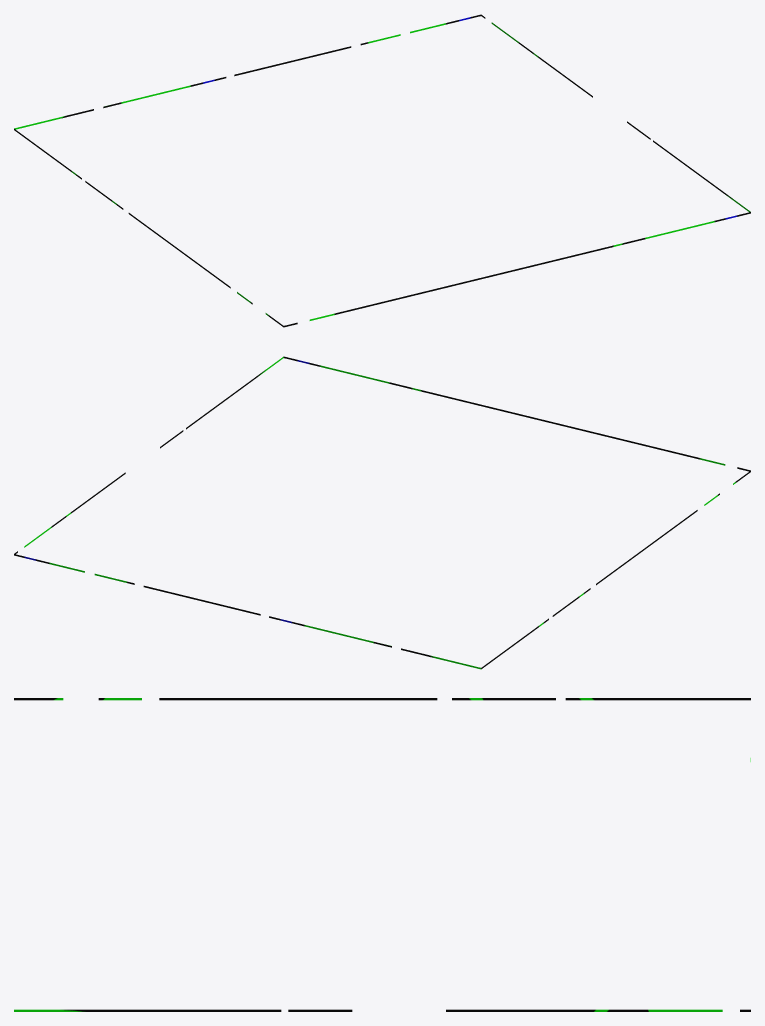
The model's file is SM_Landscape_colditz_side.fbx.
The picture shows the model from 3 angles, top to bottom: view 1: azimuth 30°, elevation 25°; view 2: azimuth 150°, elevation 25°; view 3: azimuth 270°, elevation 25°; orthographic projection. The views are drawn at different scales.
Visible parts, largest first — view 1: SM_Landscape_colditz_side; view 2: SM_Landscape_colditz_side; view 3: SM_Landscape_colditz_side.
Boxes of the visible parts, box(x1,y1,x2,y2) form: SM_Landscape_colditz_side: box(14, 14, 750, 327); SM_Landscape_colditz_side: box(14, 356, 750, 669); SM_Landscape_colditz_side: box(14, 698, 750, 1011).
Bounding box in the file's own units: 300000 × 1000 × 300000.
Materials: 1 (1 with a texture image).
